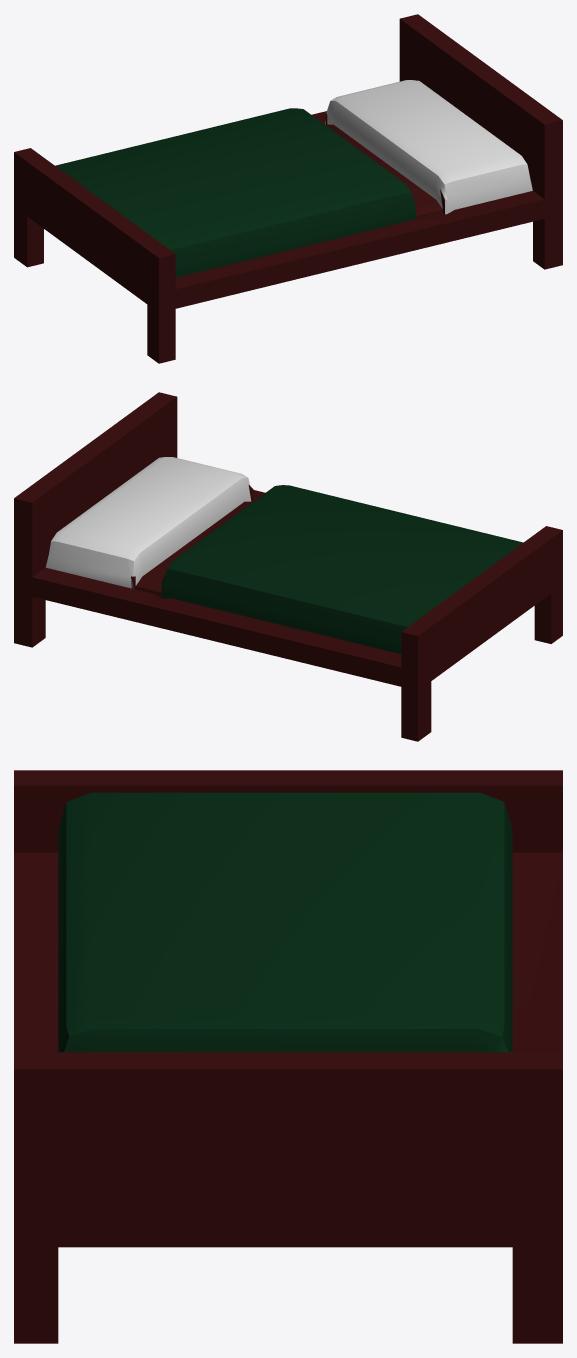
File: SM_Bed_1.fbx
3 views of the same model, one above another, from view 1: azimuth 30°, elevation 25°; view 2: azimuth 150°, elevation 25°; view 3: azimuth 270°, elevation 25° (orthographic). The views are drawn at different scales.
Parts seen in each view (by area): view 1: Lit; view 2: Lit; view 3: Lit.
Boxes of the visible parts, x1,y1,x2,y2 form: Lit: (14,14,562,363); Lit: (14,392,562,741); Lit: (14,770,562,1343).
Bounding box in the file's own units: 31.26 × 10.71 × 19.42.
